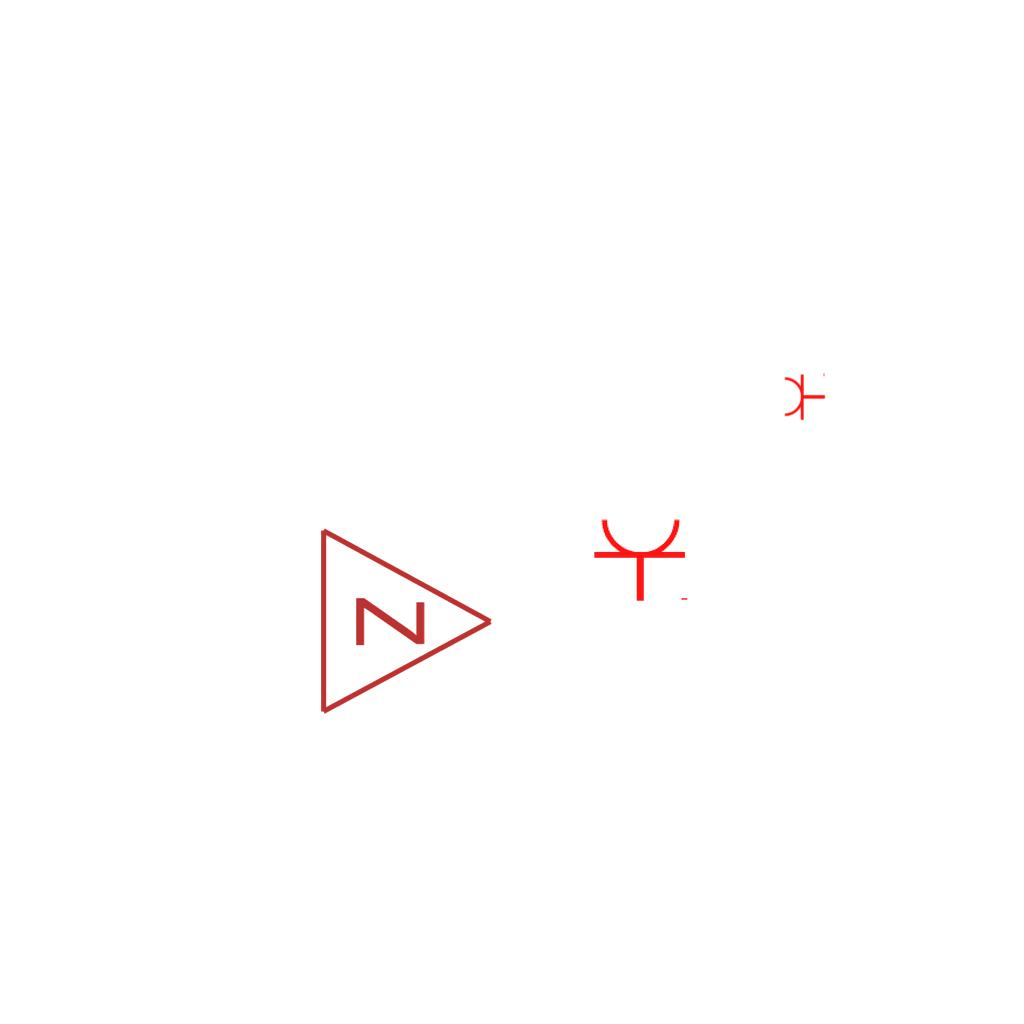Schukosteckdose_einfach: (592, 516, 692, 603), (783, 371, 826, 421)
Zimmersignalleuchte: (306, 521, 506, 717)
